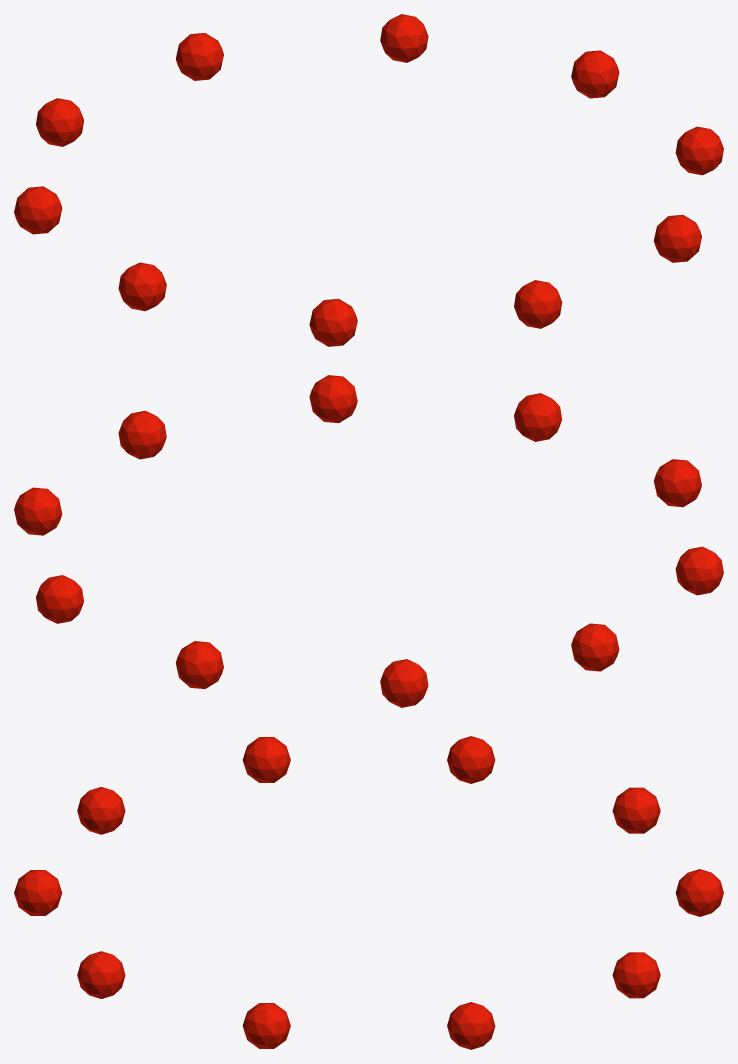
File: crownGems.fbx
The picture shows the model from 3 angles, top to bottom: view 1: azimuth 30°, elevation 25°; view 2: azimuth 150°, elevation 25°; view 3: azimuth 270°, elevation 25°; orthographic projection. The views are drawn at different scales.
Parts seen in each view (by area): view 1: Icosphere.001; view 2: Icosphere.001; view 3: Icosphere.001.
Part boxes in pixels (bbox=[...]): Icosphere.001: bbox=[14, 14, 723, 346]; Icosphere.001: bbox=[14, 375, 723, 707]; Icosphere.001: bbox=[14, 736, 723, 1049].
Size of the model in its own units: 292 by 20.95 by 307.
